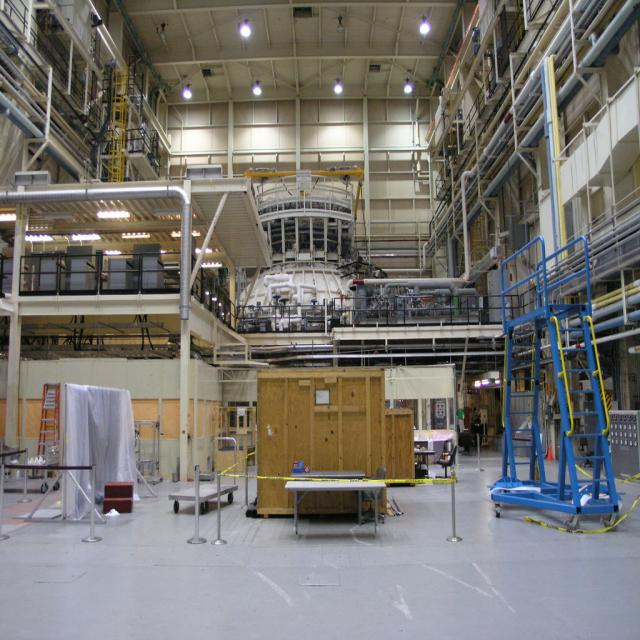desk: (285, 483, 382, 535)
